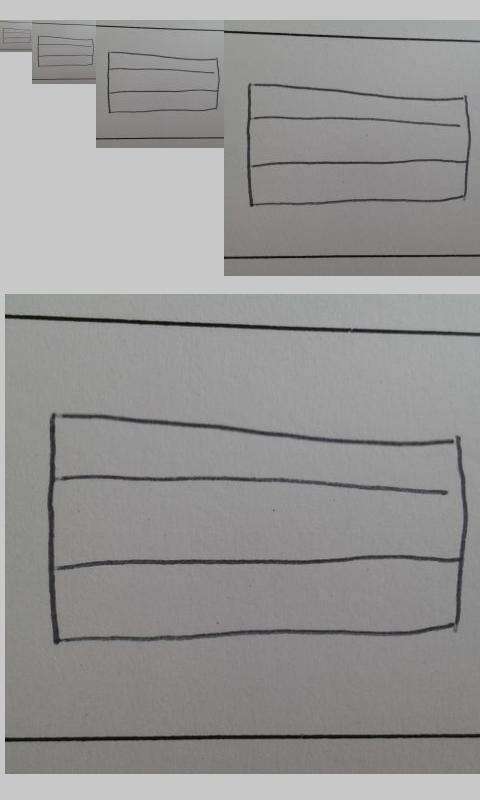list_view: (46, 409, 470, 648), (246, 79, 474, 213), (106, 50, 222, 115), (37, 34, 95, 68), (2, 26, 33, 45)
